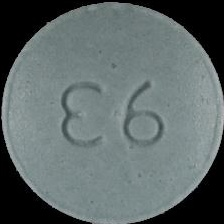76413-121: (0, 0, 224, 224)
